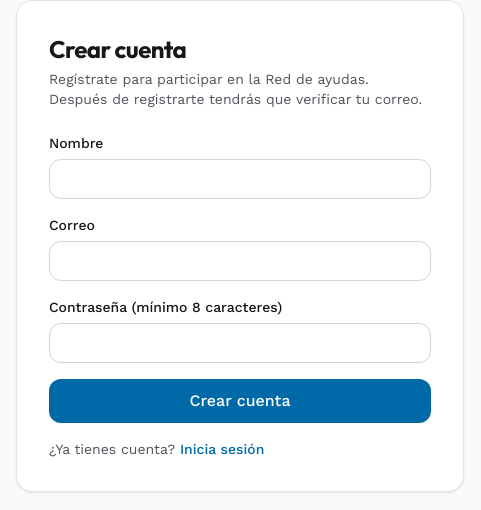
Test: RegisterPage › muestra el enlace de verificación de desarrollo cuando el servidor lo devuelve
In the field labelled "Nombre": [240, 179] box [49,159,431,199], type "Gerente"
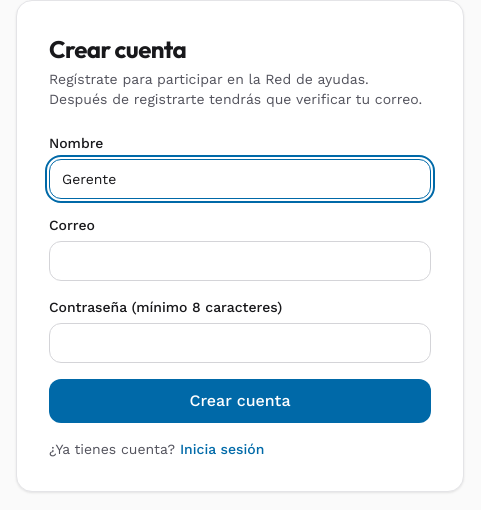
In the field labelled "Correo": [240, 261] box [49,241,431,281], type "gerente@org.org"
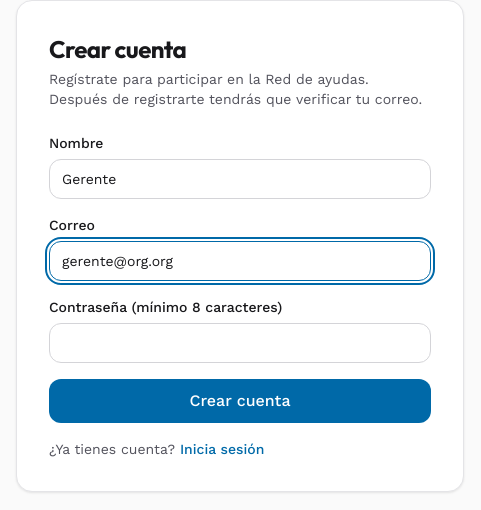
In the password field labelled "Contraseña (mínimo 8 caracteres)": [240, 343] box [49,323,431,363], type "contrasena-segura"
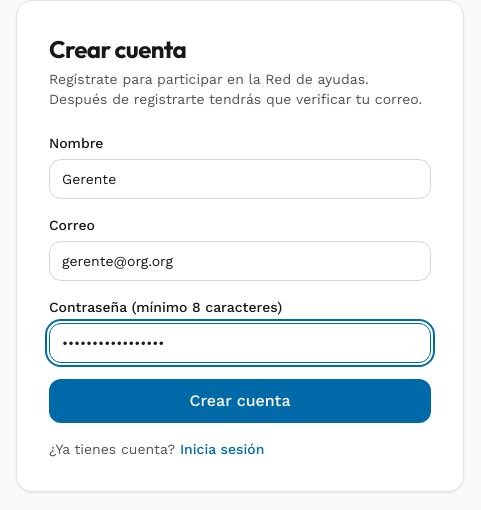
Click the button "Crear cuenta": [240, 401] box [49,379,431,423]
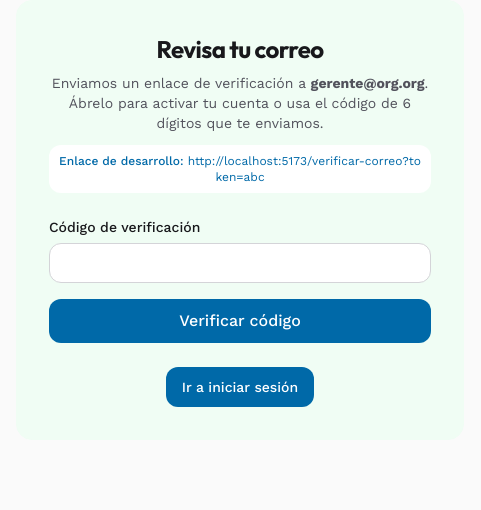
Now the text "Enlace de desarrollo:" is shown, box [59,154,184,168]
Now the text "http://localhost:5173/verificar-correo?token=abc" is shown, box [188,154,421,184]
